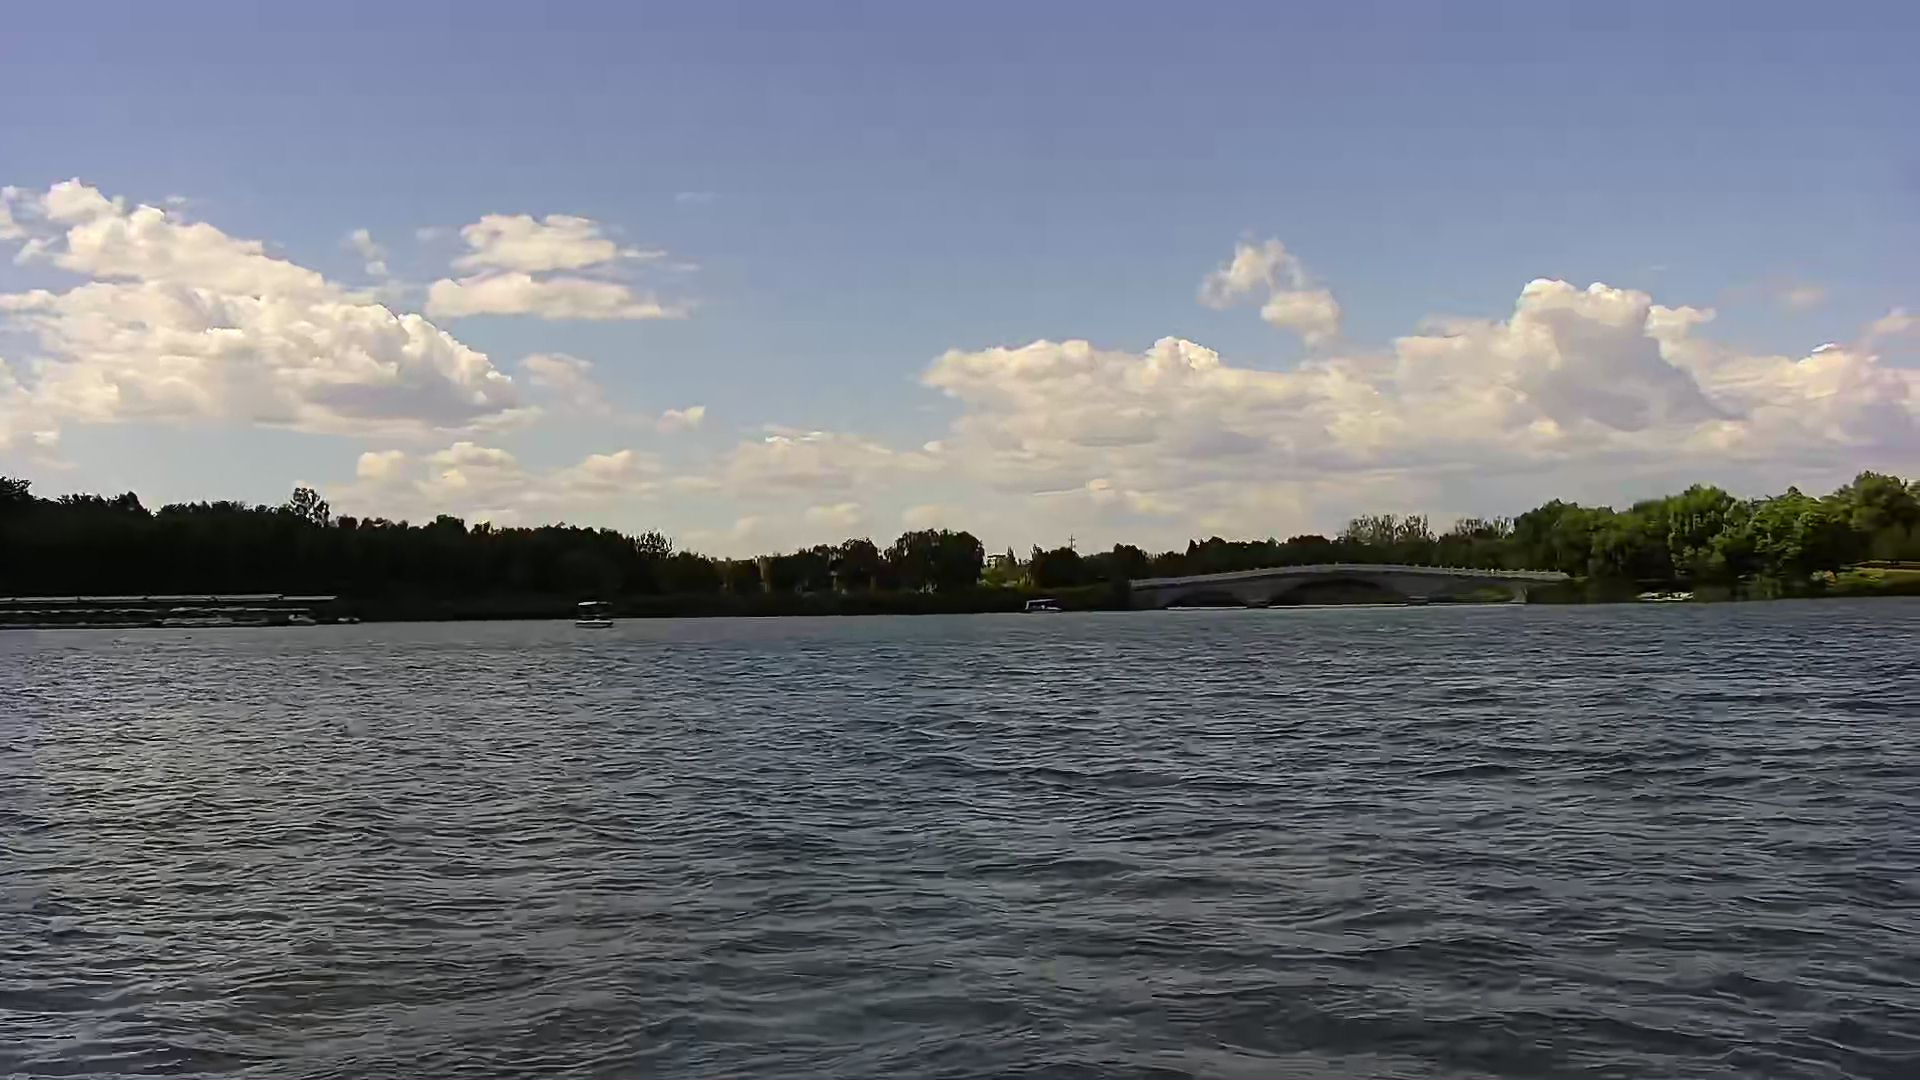boat: (568, 593, 620, 636)
bridge: (1135, 562, 1572, 611)
harbor: (7, 589, 344, 636)
